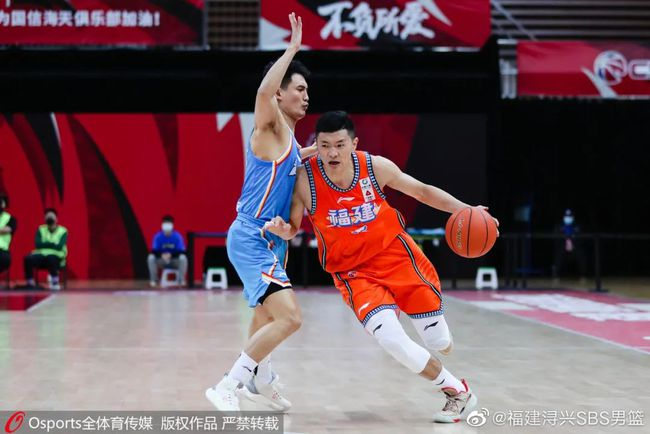ball: (445, 206, 498, 260)
